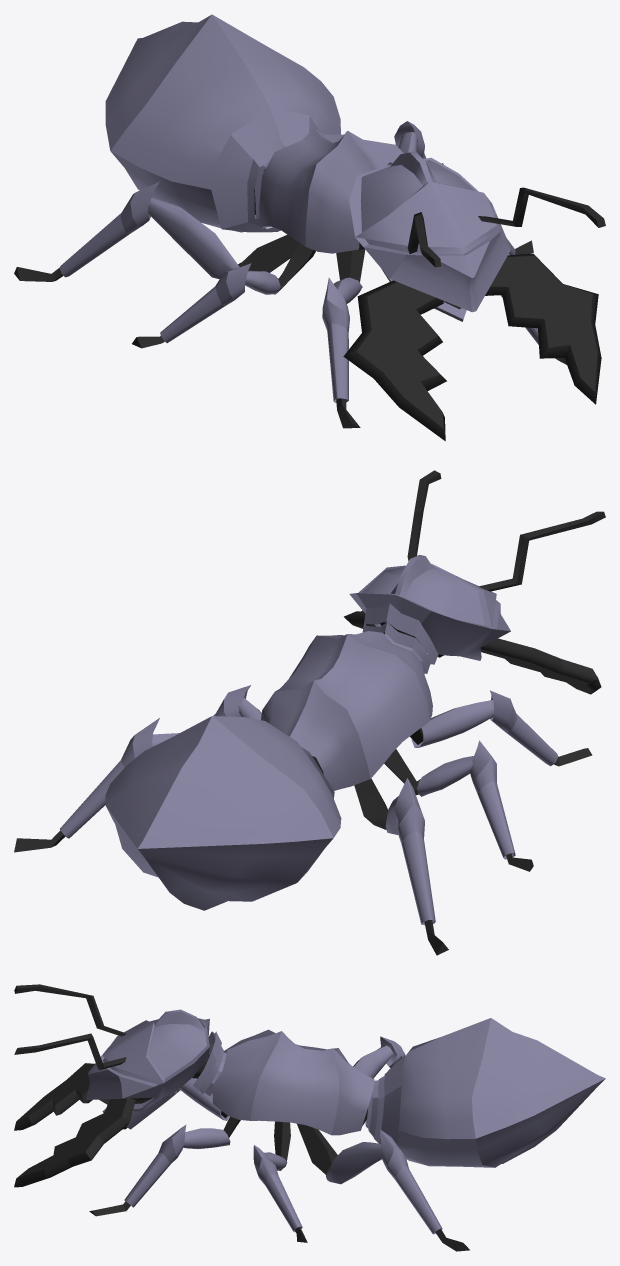
The model's file is Armor_Ant_prot.fbx.
The picture shows the model from 3 angles, top to bottom: view 1: azimuth 30°, elevation 25°; view 2: azimuth 150°, elevation 25°; view 3: azimuth 270°, elevation 25°; orthographic projection. The views are drawn at different scales.
Visible parts, largest first — view 1: temp_ant_group6_polySurface19; view 2: temp_ant_group6_polySurface19; view 3: temp_ant_group6_polySurface19.
Part boxes in pixels (x1,y1,x2,y2): temp_ant_group6_polySurface19: (14, 14, 605, 441); temp_ant_group6_polySurface19: (14, 470, 605, 955); temp_ant_group6_polySurface19: (14, 984, 605, 1251).
Size of the model in its own units: 169 by 77.88 by 261.
